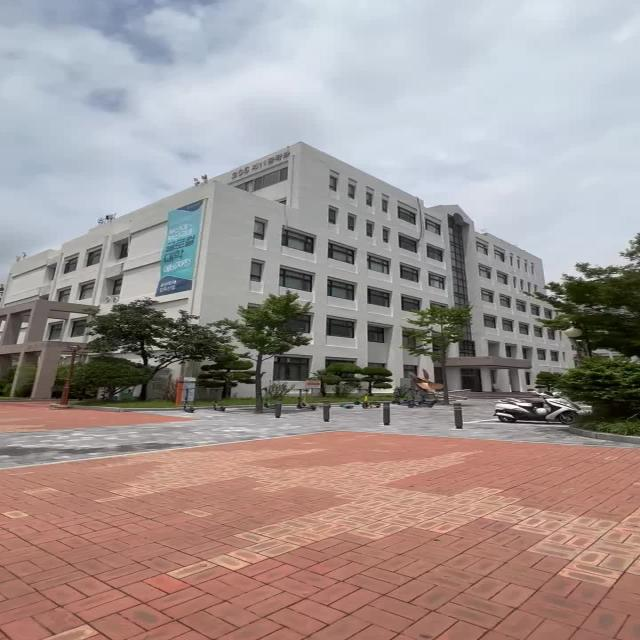building: (195, 150, 537, 306)
